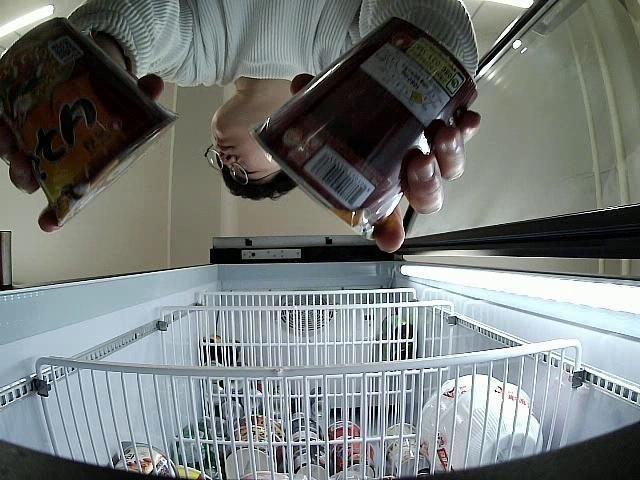06_nuguri_S: (248, 16, 479, 235), (1, 14, 177, 223)
